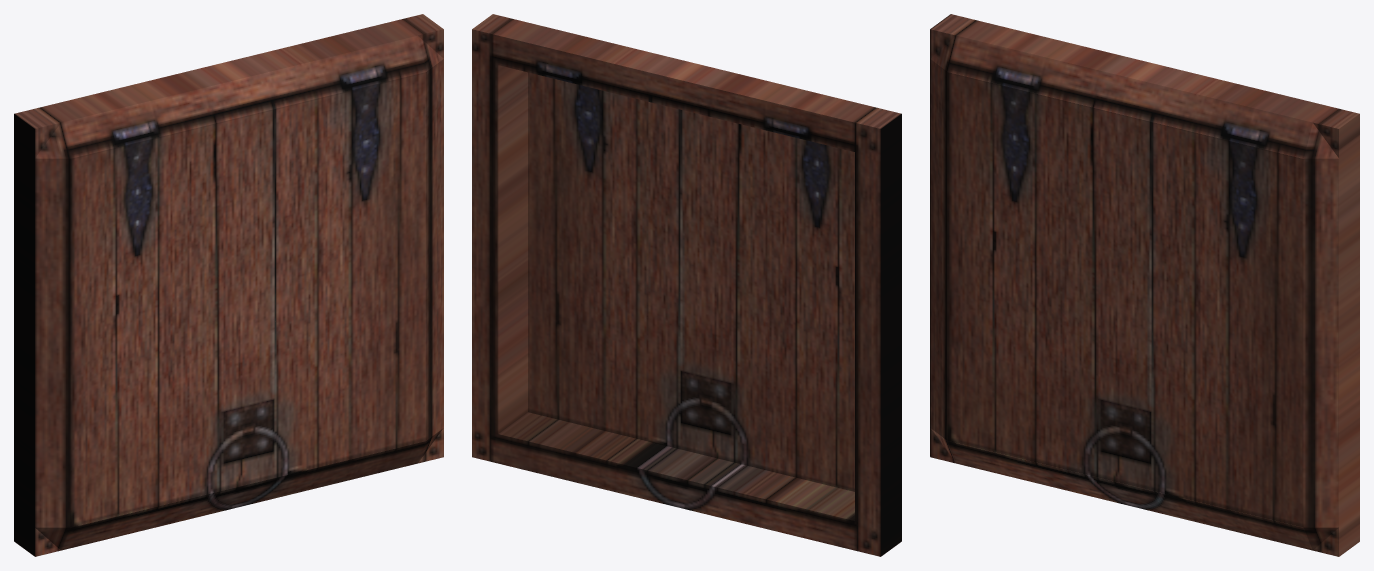
The model's file is trampilla.dae.
3 renders of one model, left to right at view 1: azimuth 30°, elevation 25°; view 2: azimuth 150°, elevation 25°; view 3: azimuth 330°, elevation 25°, orthographic.
Visible parts, largest first — view 1: trampilla; view 2: trampilla; view 3: trampilla.
Boxes of the visible parts, x1=… form: trampilla: x1=14, y1=14, x2=443, y2=556; trampilla: x1=472, y1=14, x2=901, y2=556; trampilla: x1=930, y1=14, x2=1359, y2=556.
Size of the model in its own units: 120 by 15.31 by 120.
2 materials, 2 textured.
